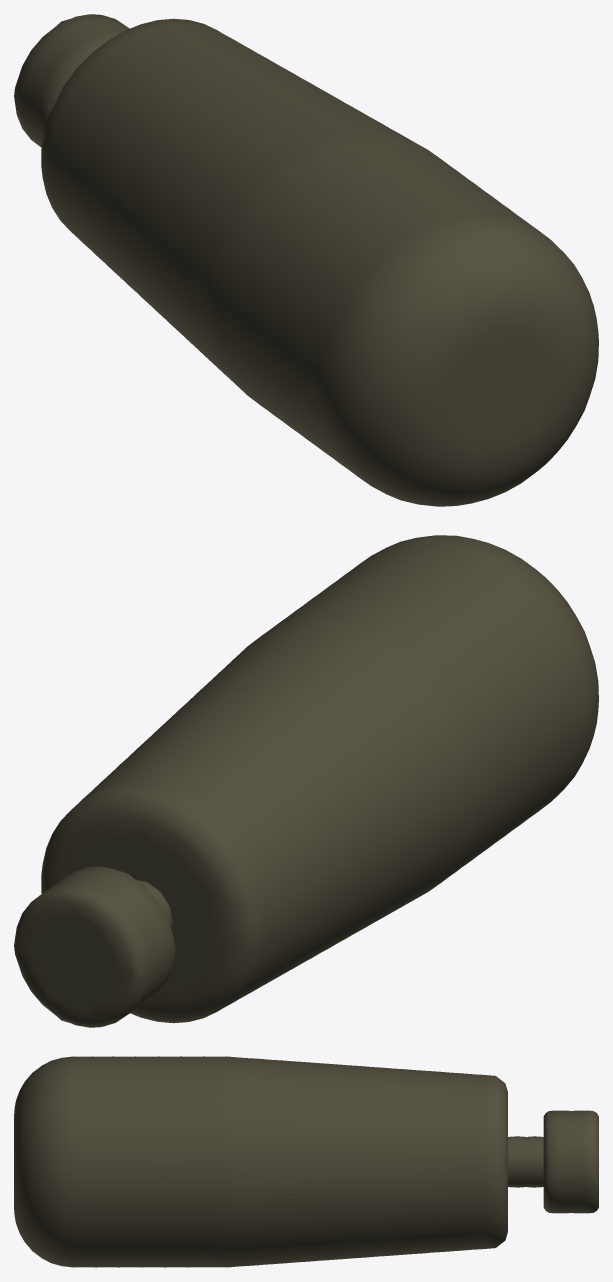
The model's file is botella2.fbx.
The picture shows the model from 3 angles, top to bottom: view 1: azimuth 30°, elevation 25°; view 2: azimuth 150°, elevation 25°; view 3: azimuth 270°, elevation 25°; orthographic projection. The views are drawn at different scales.
Parts seen in each view (by area): view 1: Cubo; view 2: Cubo; view 3: Cubo.
Boxes of the visible parts, bbox=[...] form: Cubo: bbox=[14, 14, 598, 506]; Cubo: bbox=[14, 535, 598, 1027]; Cubo: bbox=[14, 1056, 598, 1267].
Size of the model in its own units: 224 by 224 by 622.
